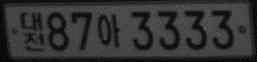3: (210, 9, 235, 50), (157, 9, 181, 51), (131, 10, 154, 51), (184, 9, 207, 50)
7: (70, 10, 92, 50)
8: (46, 11, 69, 51)
대전_V: (19, 9, 45, 52)
아: (97, 12, 121, 48)
